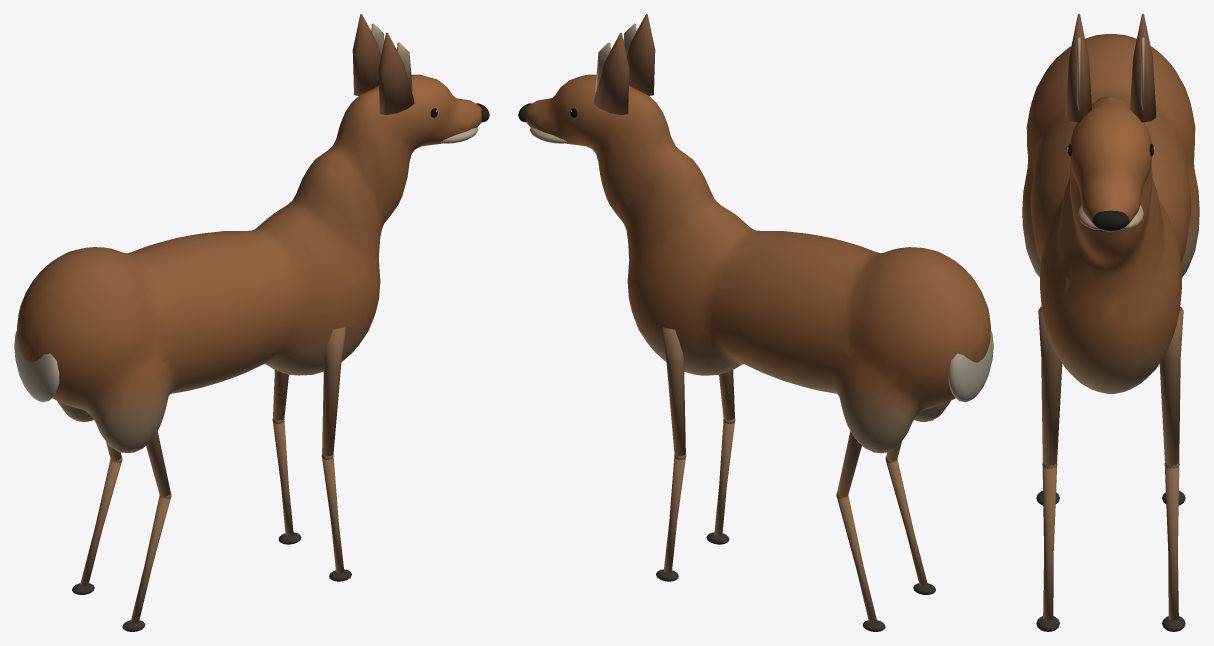
Rendered from compact-roe-deer.glb.
3 renders of one model, left to right at view 1: azimuth 30°, elevation 25°; view 2: azimuth 150°, elevation 25°; view 3: azimuth 270°, elevation 25°, orthographic. The views are drawn at different scales.
Parts seen in each view (by area): view 1: capreolus_capreolus; view 2: capreolus_capreolus; view 3: capreolus_capreolus.
Part boxes in pixels (x1,y1,x2,y2): capreolus_capreolus: (14, 14, 489, 631); capreolus_capreolus: (518, 14, 993, 631); capreolus_capreolus: (1022, 14, 1199, 631).
Size of the model in its own units: 1.12 by 1.21 by 0.2992.
